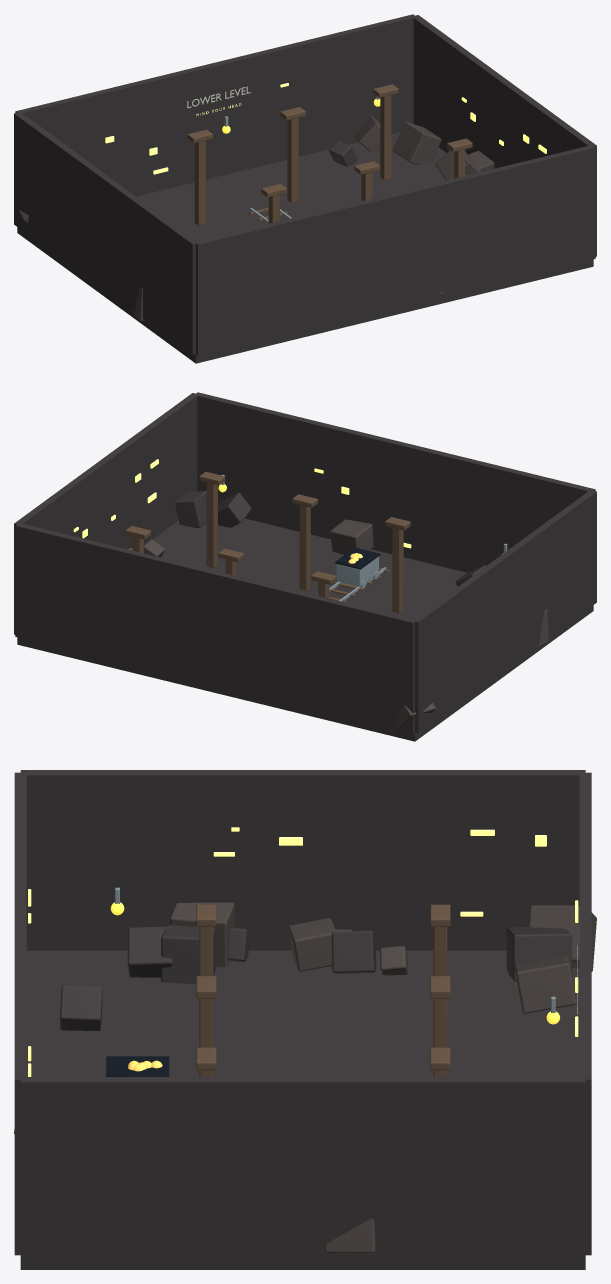
The model's file is level-basement.glb.
3 views of the same model, one above another, from view 1: azimuth 30°, elevation 25°; view 2: azimuth 150°, elevation 25°; view 3: azimuth 270°, elevation 25° (orthographic). The views are drawn at different scales.
Parts seen in each view (by area): view 1: Mine wall north, Mine wall south, Mine wall east, Mine floor, Mine wall west, Rock face.023, Pit prop, Pit prop.002, Pit prop.004, Rock face.022, Rock face.010, Rock face.024; view 2: Mine wall south, Mine wall north, Mine wall east, Mine floor, Mine wall west, Rock face.008, Pit prop.005, Pit prop.003, Pit prop.001, Rock face.021, Rock face.015, Cart body (+1 smaller); view 3: Mine wall west, Mine wall east, Mine floor, Mine wall north, Mine wall south, Rock face.019, Rock face, Rock face.009, Rock face.004, Rock face.003, Rock face.018, Rock face.006 (+10 smaller).
Part boxes in pixels (left/top/right/bottom): Mine wall north: left=196, top=146, right=595, bottom=355; Mine wall south: left=15, top=14, right=416, bottom=196; Mine wall east: left=14, top=112, right=198, bottom=355; Mine floor: left=17, top=132, right=593, bottom=363; Mine wall west: left=412, top=15, right=596, bottom=256; Rock face.023: left=392, top=122, right=441, bottom=164; Pit prop: left=380, top=95, right=391, bottom=180; Pit prop.002: left=287, top=118, right=298, bottom=203; Pit prop.004: left=194, top=140, right=205, bottom=225; Rock face.022: left=355, top=116, right=380, bottom=151; Rock face.010: left=435, top=150, right=480, bottom=180; Rock face.024: left=329, top=141, right=357, bottom=166; Mine wall south: left=15, top=524, right=414, bottom=733; Mine wall north: left=195, top=392, right=595, bottom=572; Mine wall east: left=412, top=490, right=596, bottom=733; Mine floor: left=17, top=518, right=593, bottom=741; Mine wall west: left=14, top=393, right=198, bottom=634; Rock face.008: left=330, top=519, right=373, bottom=554; Pit prop.005: left=392, top=528, right=403, bottom=613; Pit prop.003: left=299, top=505, right=310, bottom=590; Pit prop.001: left=206, top=482, right=217, bottom=567; Rock face.021: left=175, top=491, right=206, bottom=527; Rock face.015: left=218, top=492, right=251, bottom=527; Cart body: left=336, top=556, right=378, bottom=586; Mine wall west: left=20, top=1077, right=585, bottom=1257; Mine wall east: left=20, top=770, right=585, bottom=950; Mine floor: left=20, top=950, right=585, bottom=1269; Mine wall north: left=14, top=772, right=26, bottom=1255; Mine wall south: left=579, top=772, right=591, bottom=1255; Rock face.019: left=514, top=956, right=576, bottom=1013; Rock face: left=506, top=927, right=571, bottom=981; Rock face.009: left=161, top=925, right=216, bottom=984; Rock face.004: left=288, top=918, right=335, bottom=971; Rock face.003: left=60, top=984, right=102, bottom=1030; Rock face.018: left=331, top=930, right=376, bottom=973; Rock face.006: left=127, top=926, right=172, bottom=977.
Bounding box in the file's own units: 18.7 × 5.2 × 14.45.
